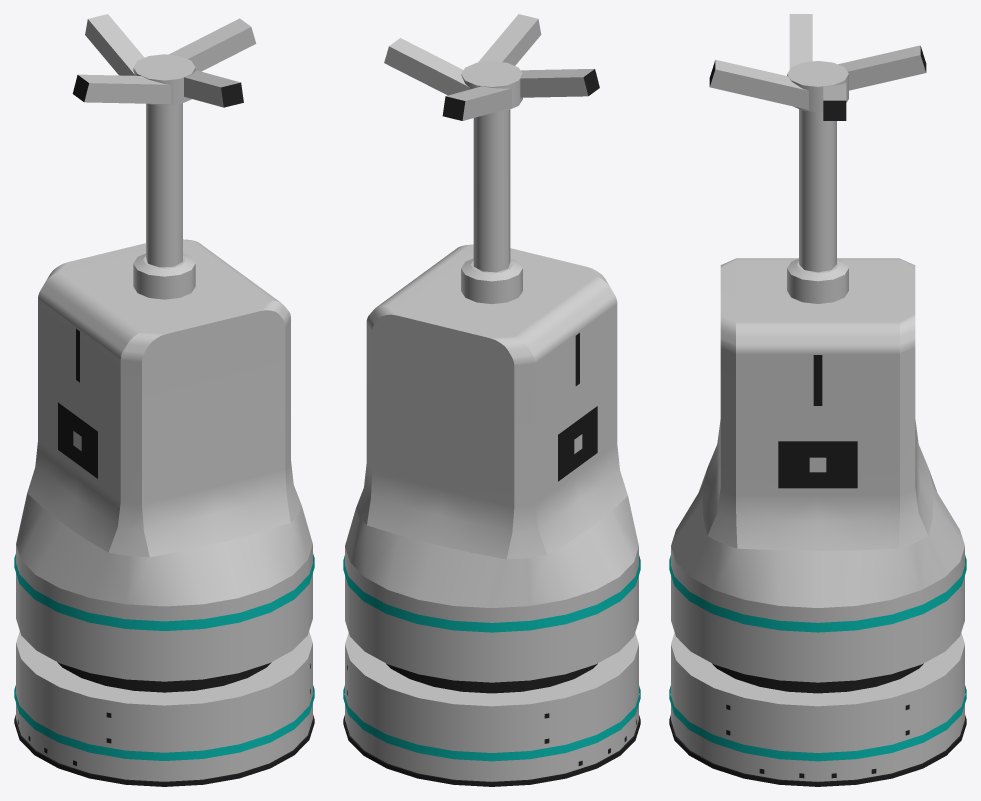
Rendered from booCaxRobot.glb.
The picture shows the model from 3 angles, left to right: view 1: azimuth 30°, elevation 25°; view 2: azimuth 150°, elevation 25°; view 3: azimuth 270°, elevation 25°; orthographic projection.
Parts seen in each view (by area): view 1: ??001; view 2: ??001; view 3: ??001.
Boxes of the visible parts, <box> form: ??001: <box>14,14,314,786</box>; ??001: <box>343,14,640,786</box>; ??001: <box>669,14,966,786</box>.
Bounding box in the file's own units: 59.63 × 148 × 59.63.
Materials: 1 (1 with a texture image).
